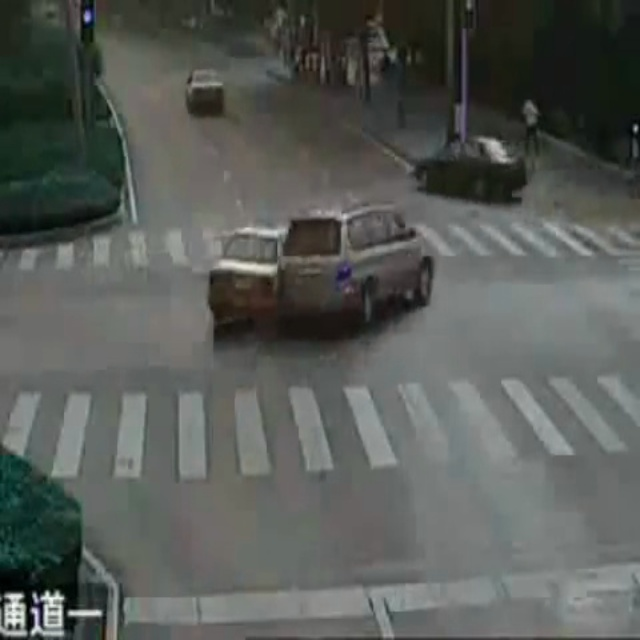acc: (196, 201, 444, 349)
